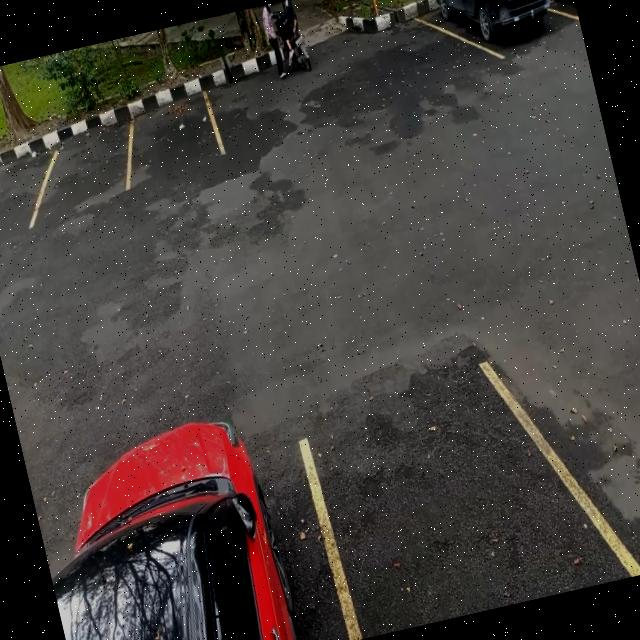empty: (292, 350, 582, 640), (116, 70, 228, 190), (30, 101, 144, 217), (0, 128, 54, 240)
occupied: (428, 0, 565, 66)
